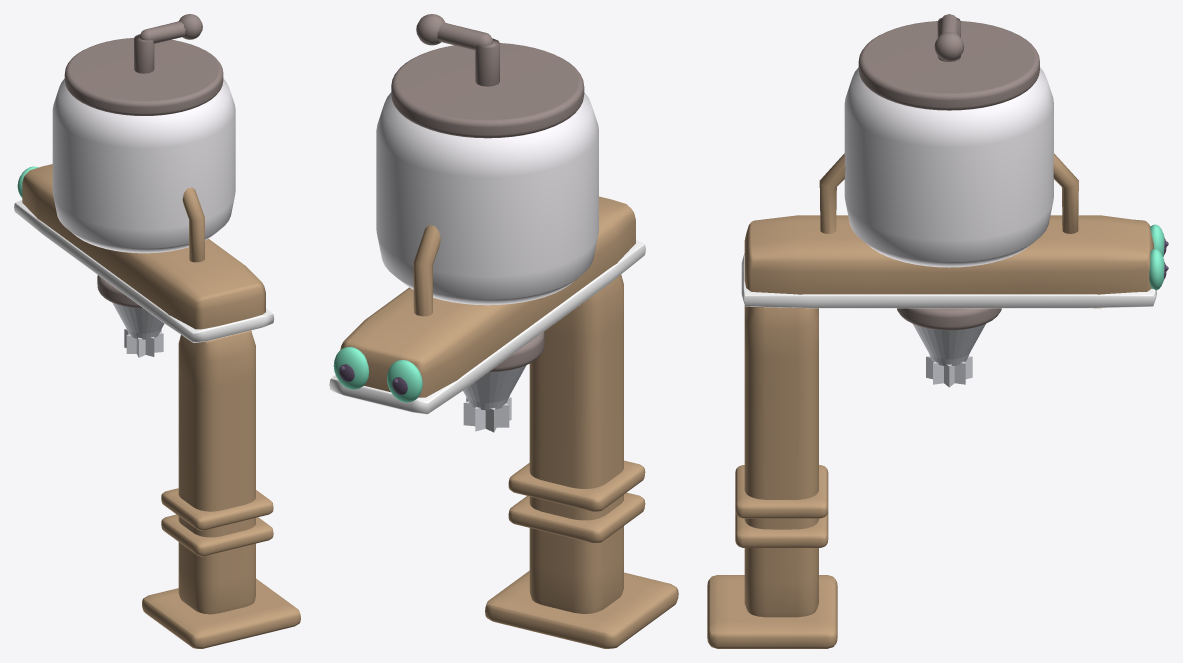
File: CakeNozzle.glb
3 renders of one model, left to right at view 1: azimuth 30°, elevation 25°; view 2: azimuth 150°, elevation 25°; view 3: azimuth 270°, elevation 25°, orthographic. The views are drawn at different scales.
Parts seen in each view (by area): view 1: Frame, Tank, Trim, Stripe, Nozzle; view 2: Frame, Tank, Trim, Stripe, Nozzle, Eyes; view 3: Frame, Tank, Trim, Stripe, Nozzle, Eyes.
Boxes of the visible parts, bbox=[...] form: Frame: bbox=[22, 164, 300, 648]; Tank: bbox=[52, 78, 235, 253]; Trim: bbox=[64, 14, 223, 308]; Stripe: bbox=[14, 200, 274, 342]; Nozzle: bbox=[112, 302, 164, 357]; Frame: bbox=[340, 196, 678, 648]; Tank: bbox=[376, 92, 598, 305]; Trim: bbox=[391, 14, 584, 372]; Stripe: bbox=[329, 240, 645, 414]; Nozzle: bbox=[463, 365, 526, 432]; Eyes: bbox=[333, 347, 422, 402]; Frame: bbox=[707, 153, 1153, 648]; Tank: bbox=[844, 67, 1053, 267]; Trim: bbox=[858, 14, 1039, 330]; Stripe: bbox=[741, 253, 1156, 308]; Nozzle: bbox=[913, 324, 985, 387]; Eyes: bbox=[1149, 224, 1164, 290].
Size of the model in its own units: 4.5 by 14.57 by 9.91.
